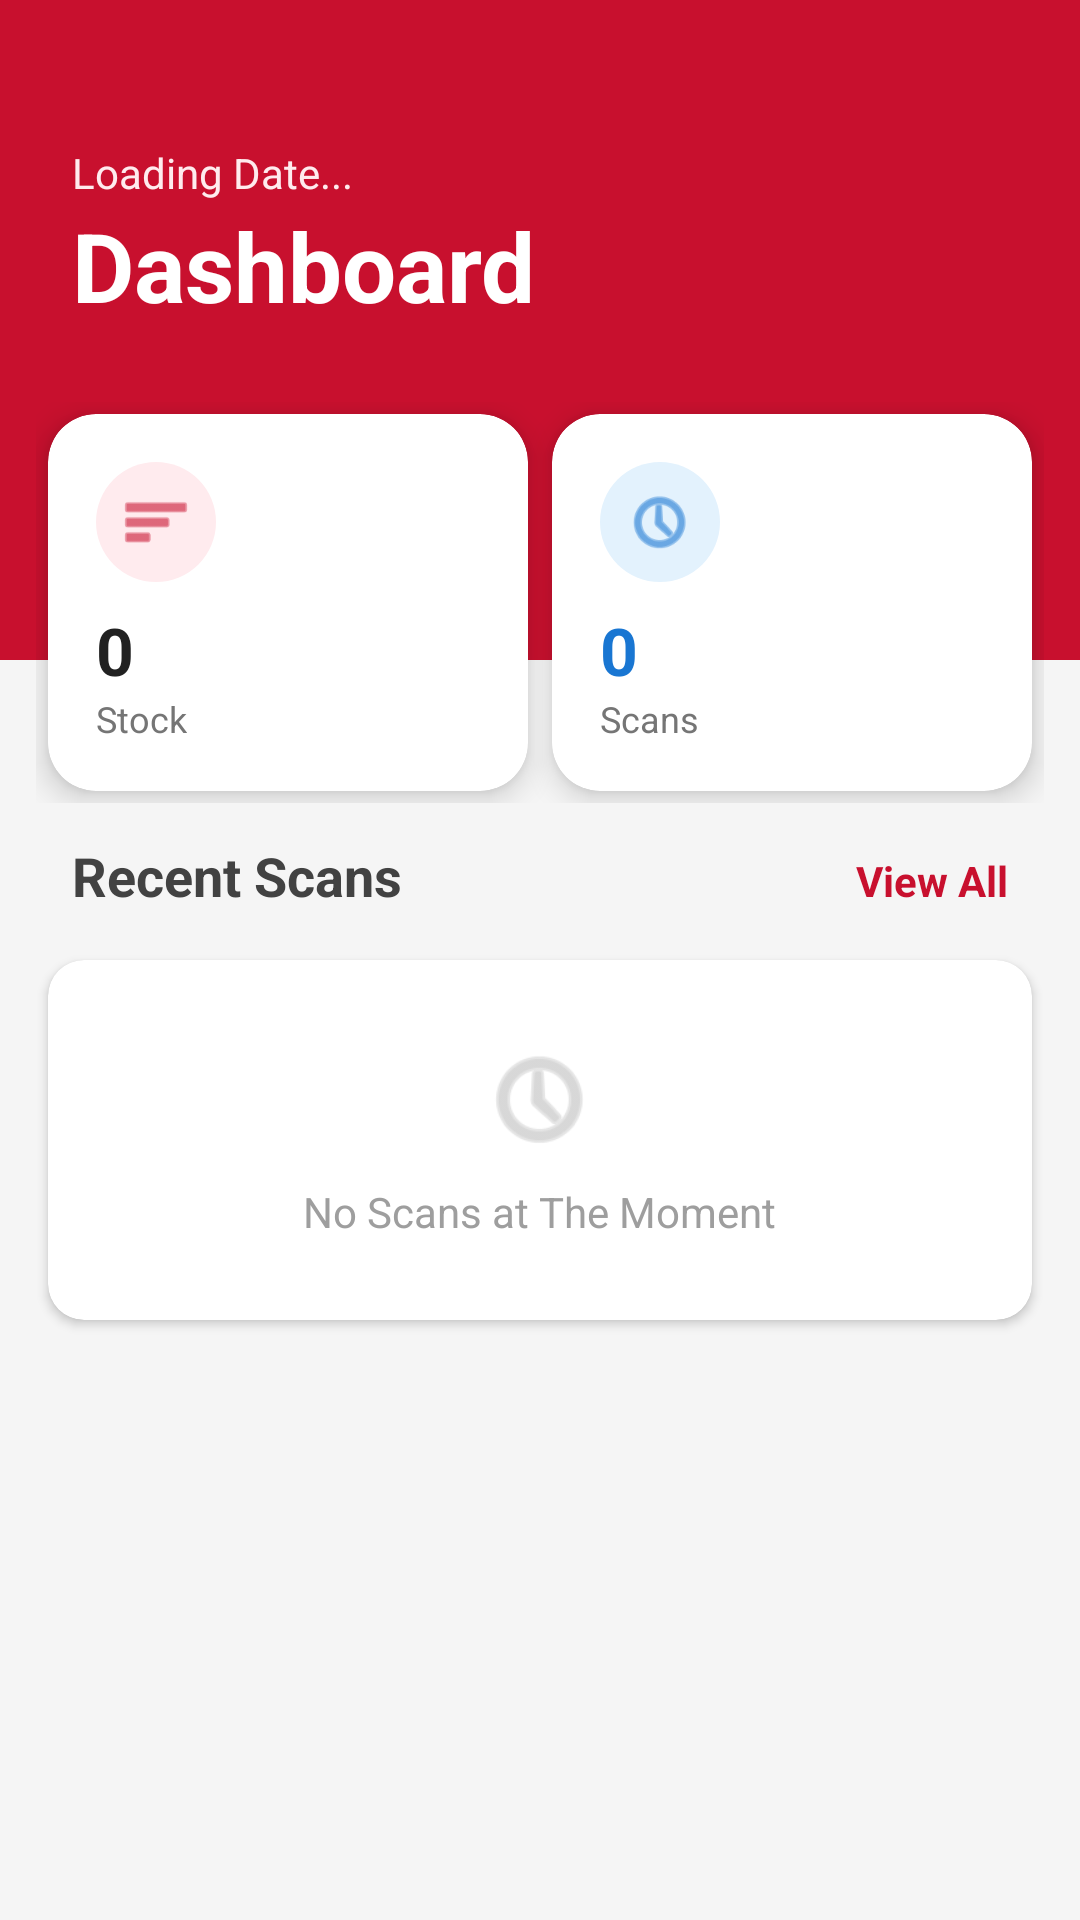

Icons on this 1080px×1920px Android screen, each with the point to tap as point (x, y):
recent history: point (660, 522), point (539, 1099)
sort by size: point (156, 522)
